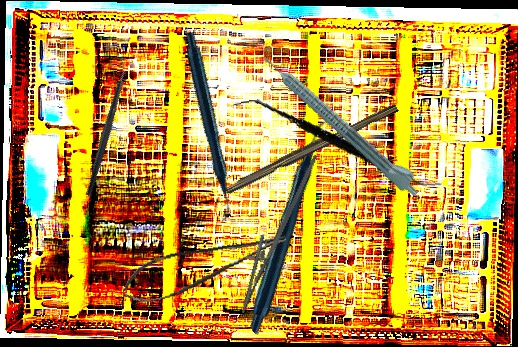Chopper: (41, 54, 169, 198)
Handpiece: (176, 117, 407, 336), (121, 29, 292, 224), (259, 45, 427, 201)
Micro Scissor: (117, 229, 294, 309)
Needle Holder: (228, 144, 318, 320)
Scalpel Handle: (223, 98, 399, 198)
Spatula Surgical: (234, 78, 442, 210)
